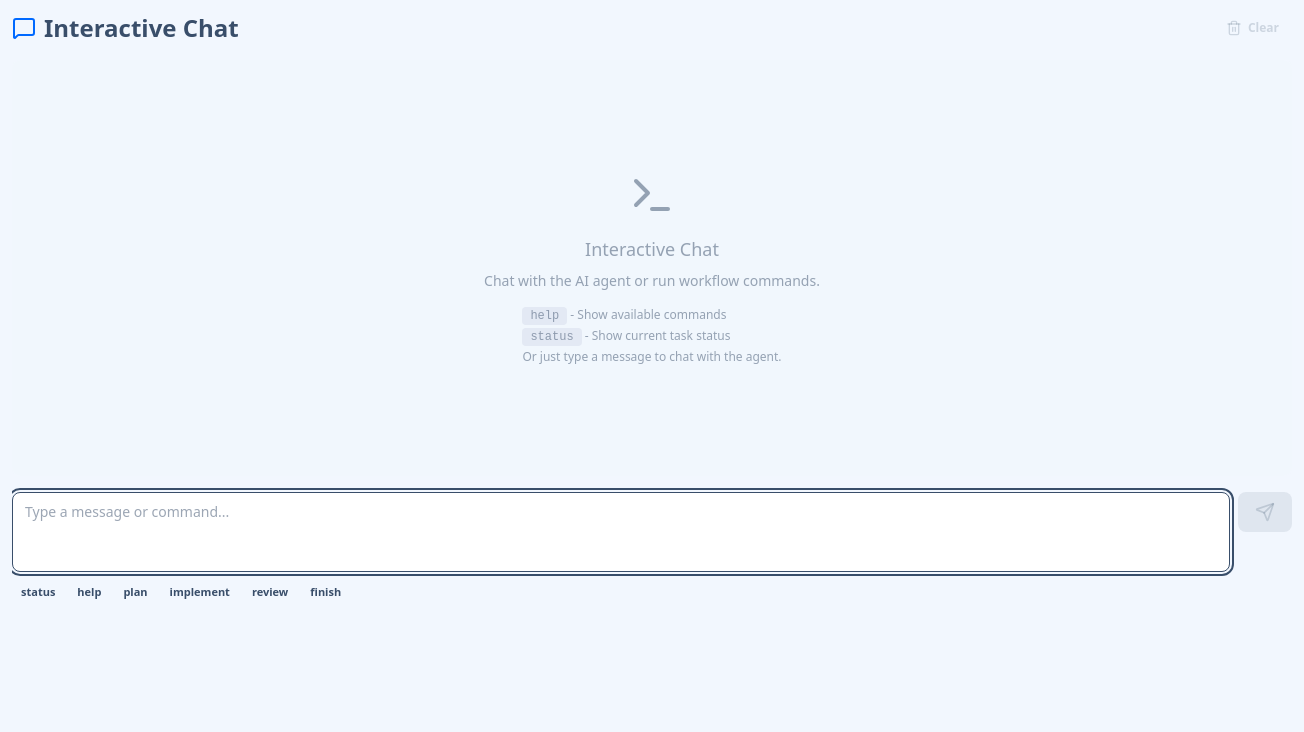
it: Chat › renders detailed help output from command metadata
In the text box: x=621, y=532 x1=12 y1=492 x2=1230 y2=572, type "help"
Then press Enter
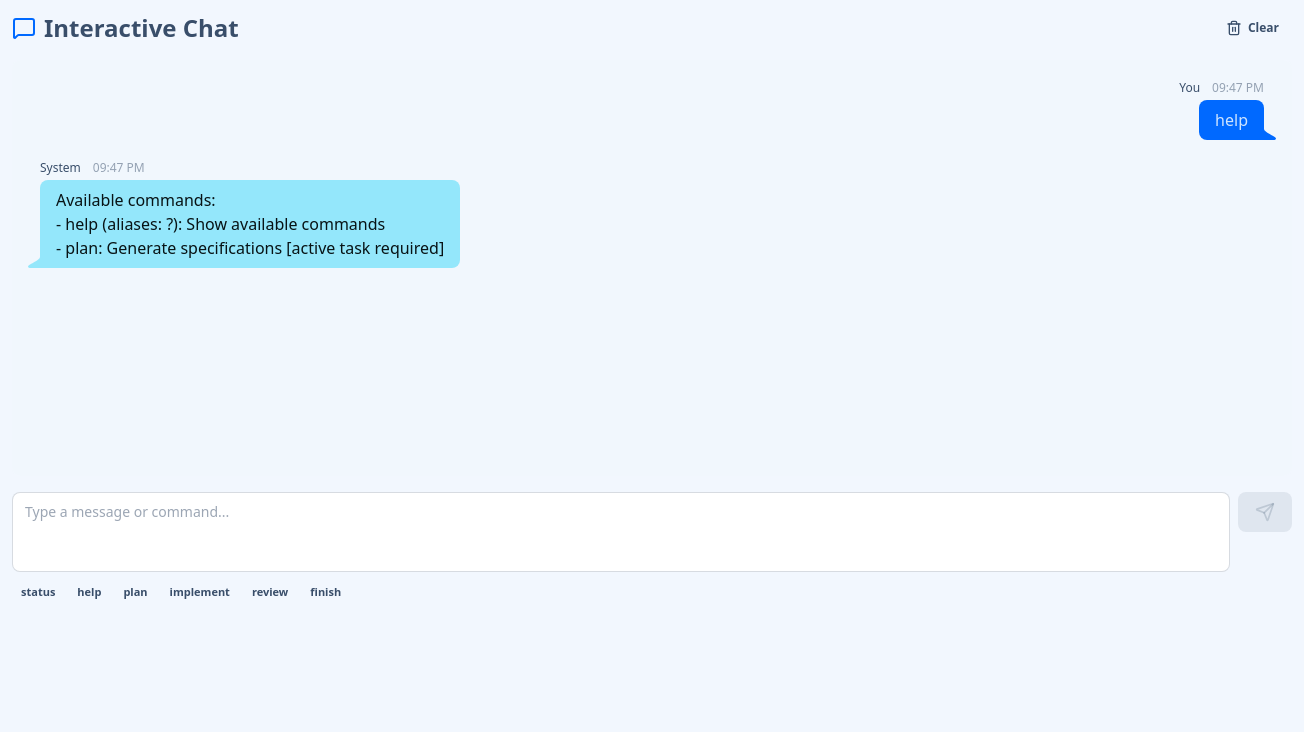
Expected: the text "- plan: Generate specifications [active task required]" is shown, x1=56 y1=189 x2=444 y2=259
